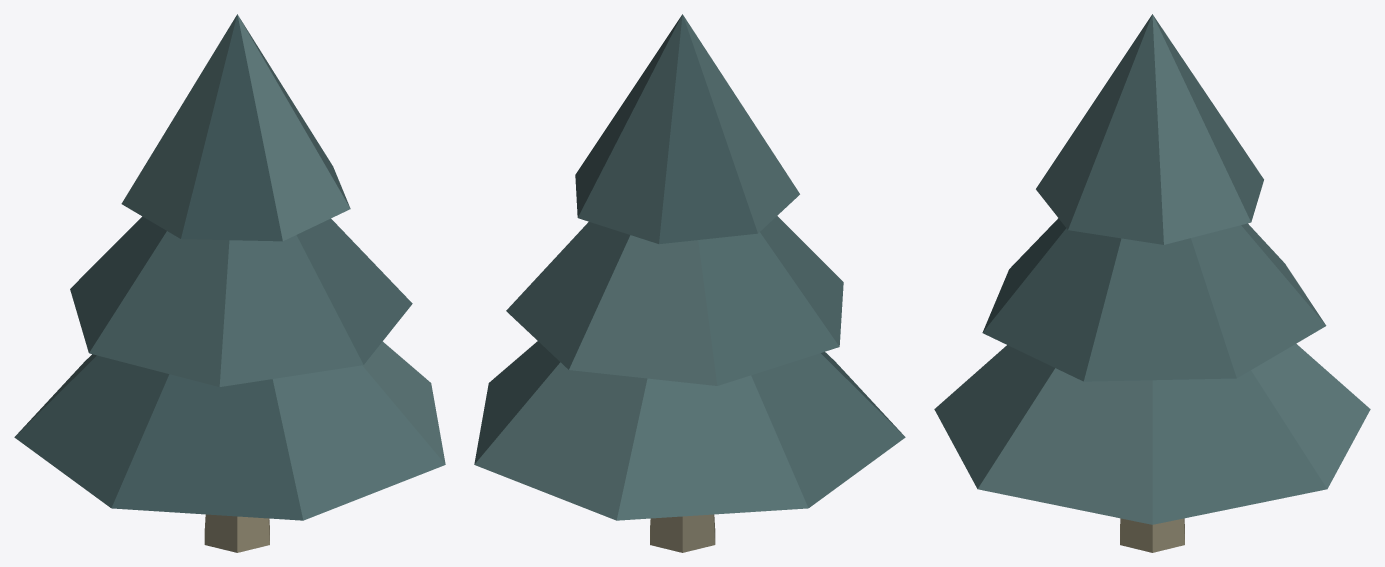
File: agac.glb
The picture shows the model from 3 angles, left to right: view 1: azimuth 30°, elevation 25°; view 2: azimuth 150°, elevation 25°; view 3: azimuth 270°, elevation 25°; orthographic projection.
Parts seen in each view (by area): view 1: Agac; view 2: Agac; view 3: Agac.
Boxes of the visible parts, x1,y1,x2,y2 form: Agac: [14, 14, 445, 552]; Agac: [474, 14, 905, 552]; Agac: [934, 14, 1370, 552].
Bounding box in the file's own units: 1.81 × 2.45 × 1.85.
